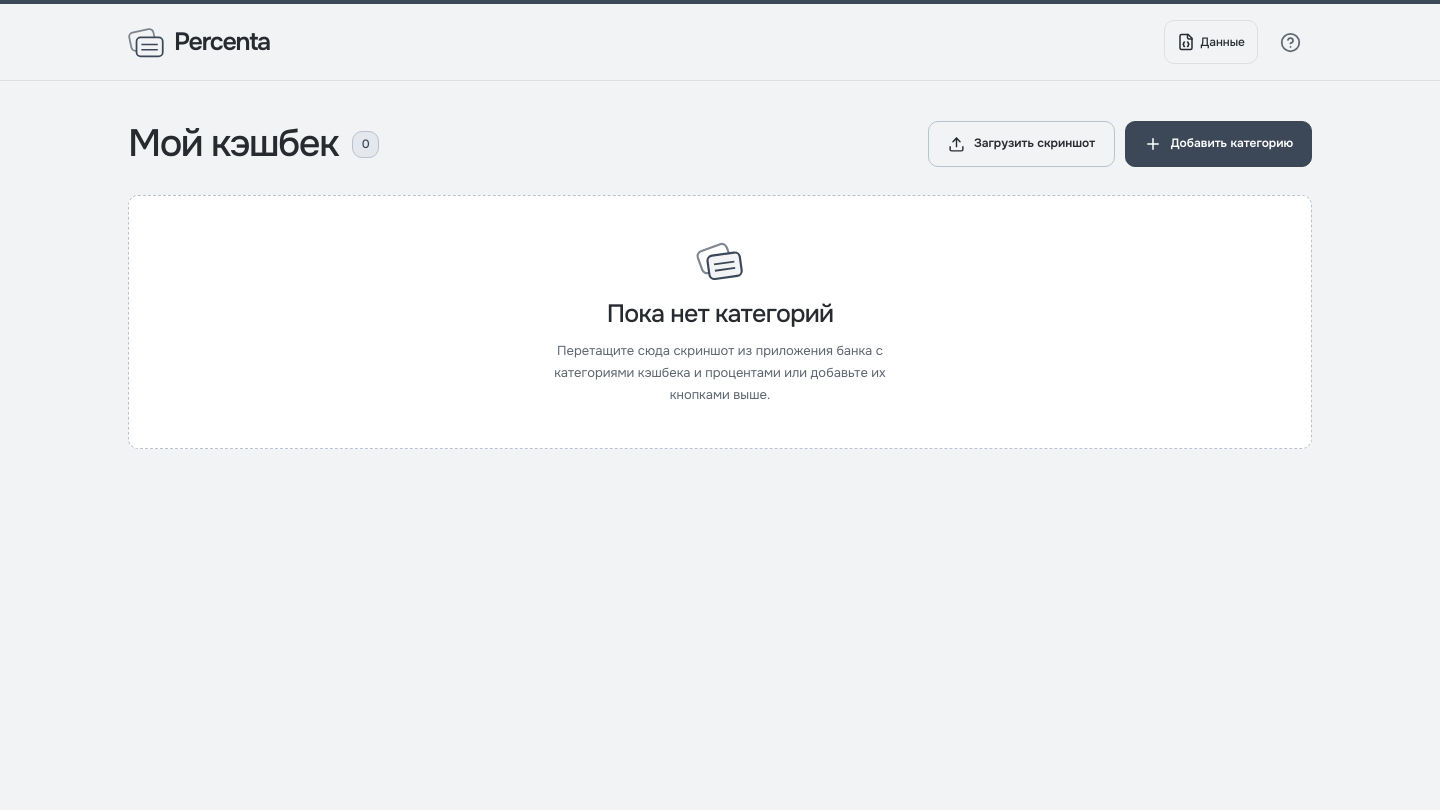
Test: основные пользовательские сценарии › добавляет вручную, сохраняет и показывает предложение
The image size is (1440, 810).
Click the button "Добавить категорию": (1218, 144) [1125,121,1312,167]
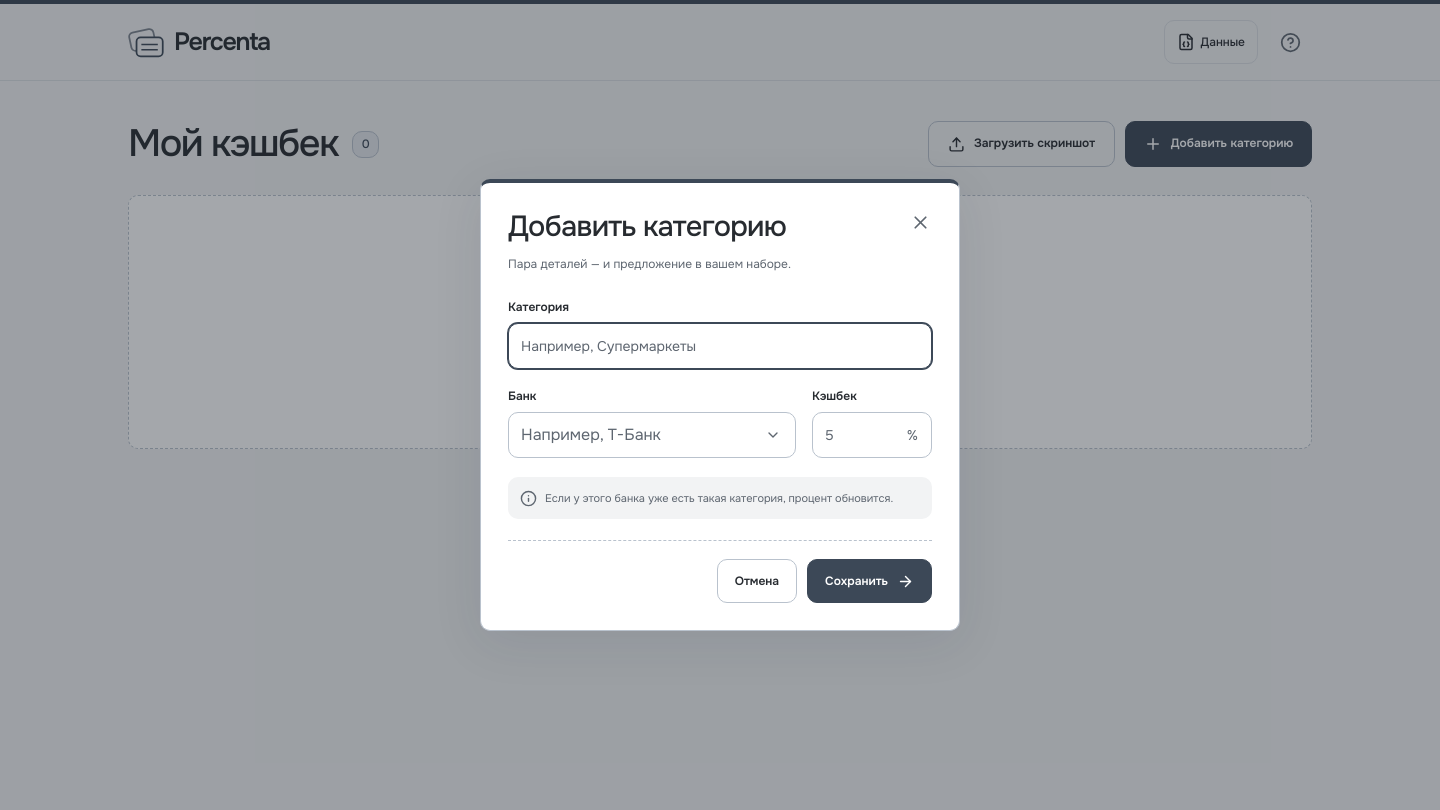
In the field labelled "Категория": (720, 346) [509,324,931,368], type "Кафе"
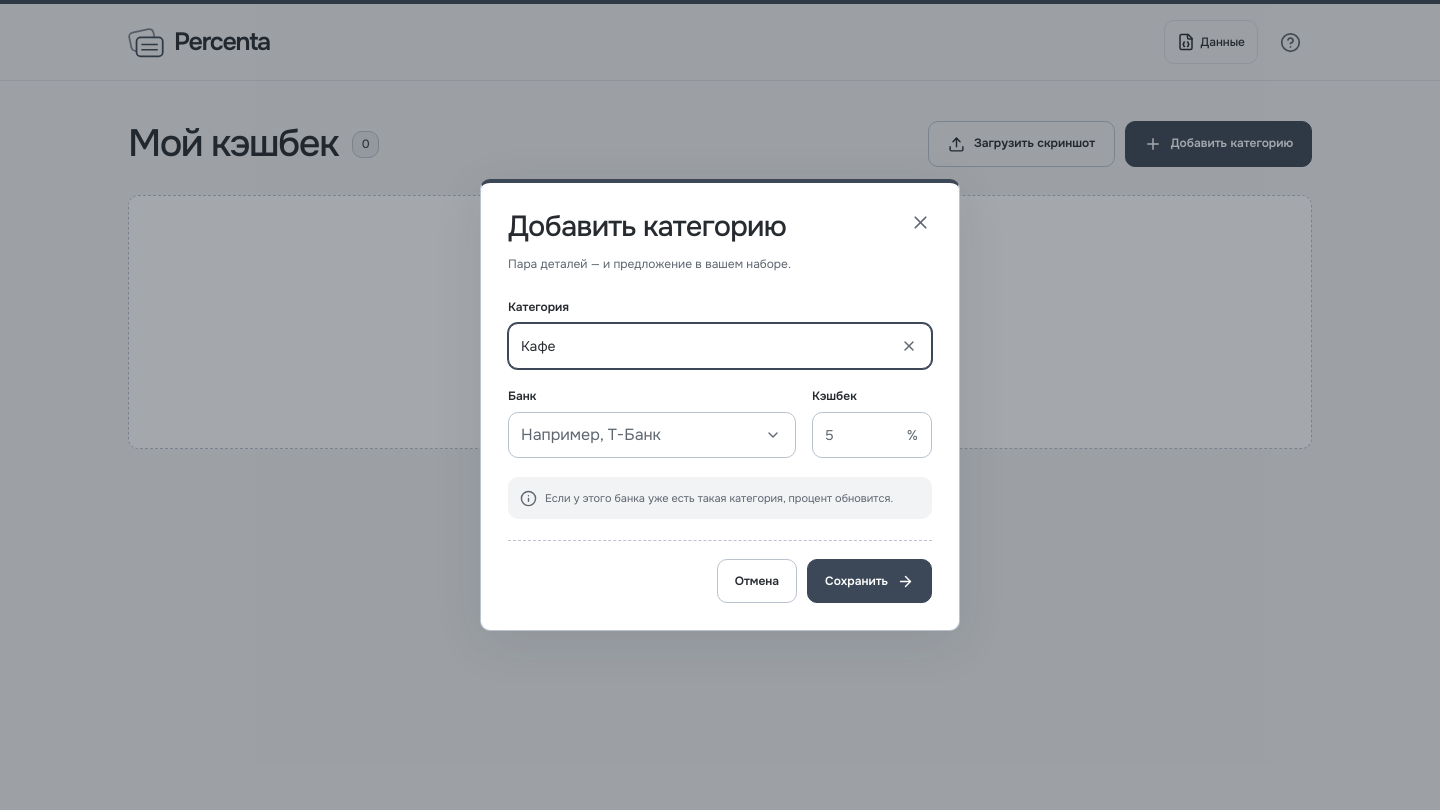
In the field labelled "Банк": (630, 435) [509,413,751,457], type "Сбер"
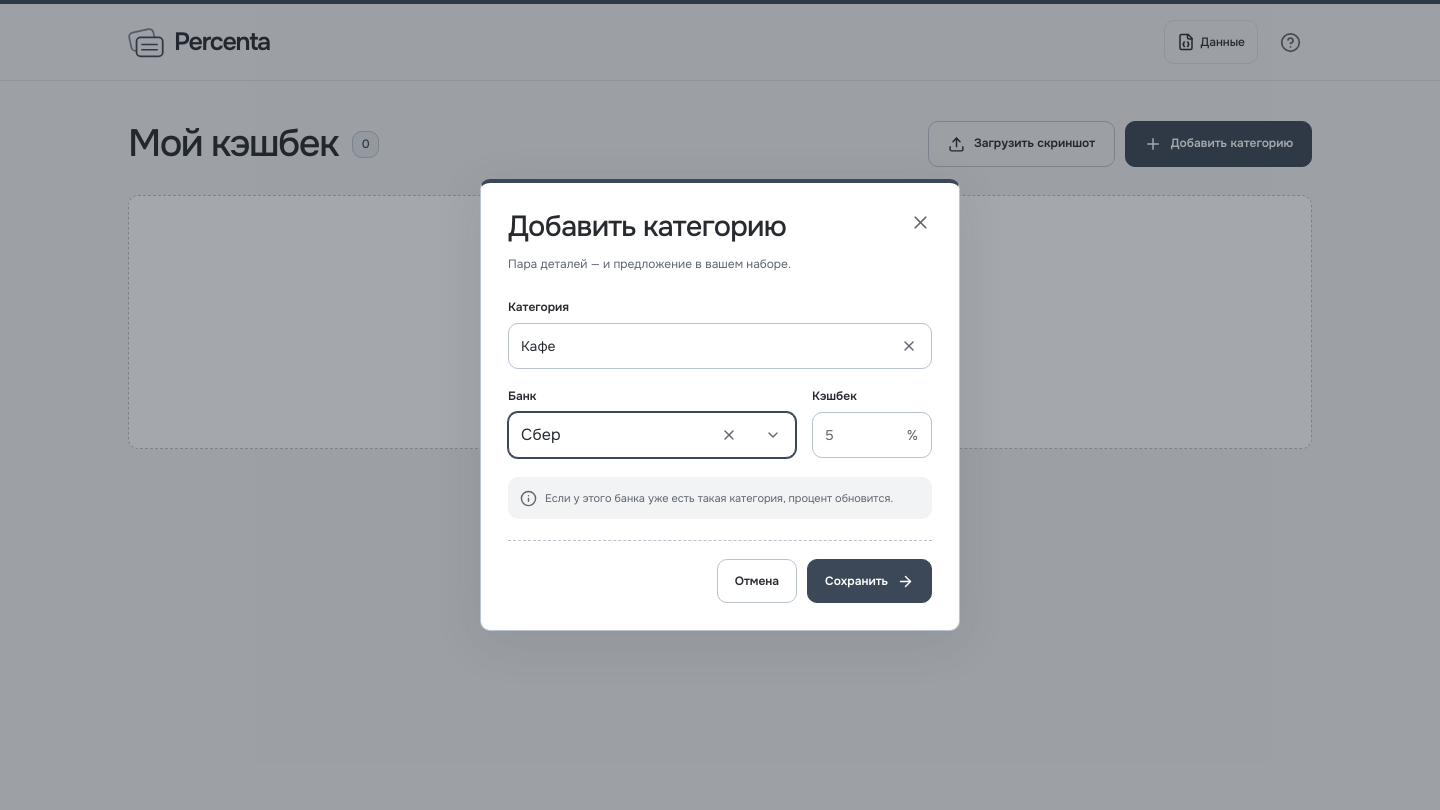
In the field named "Процент кэшбека": (860, 435) [813,413,907,457], type "5,5"
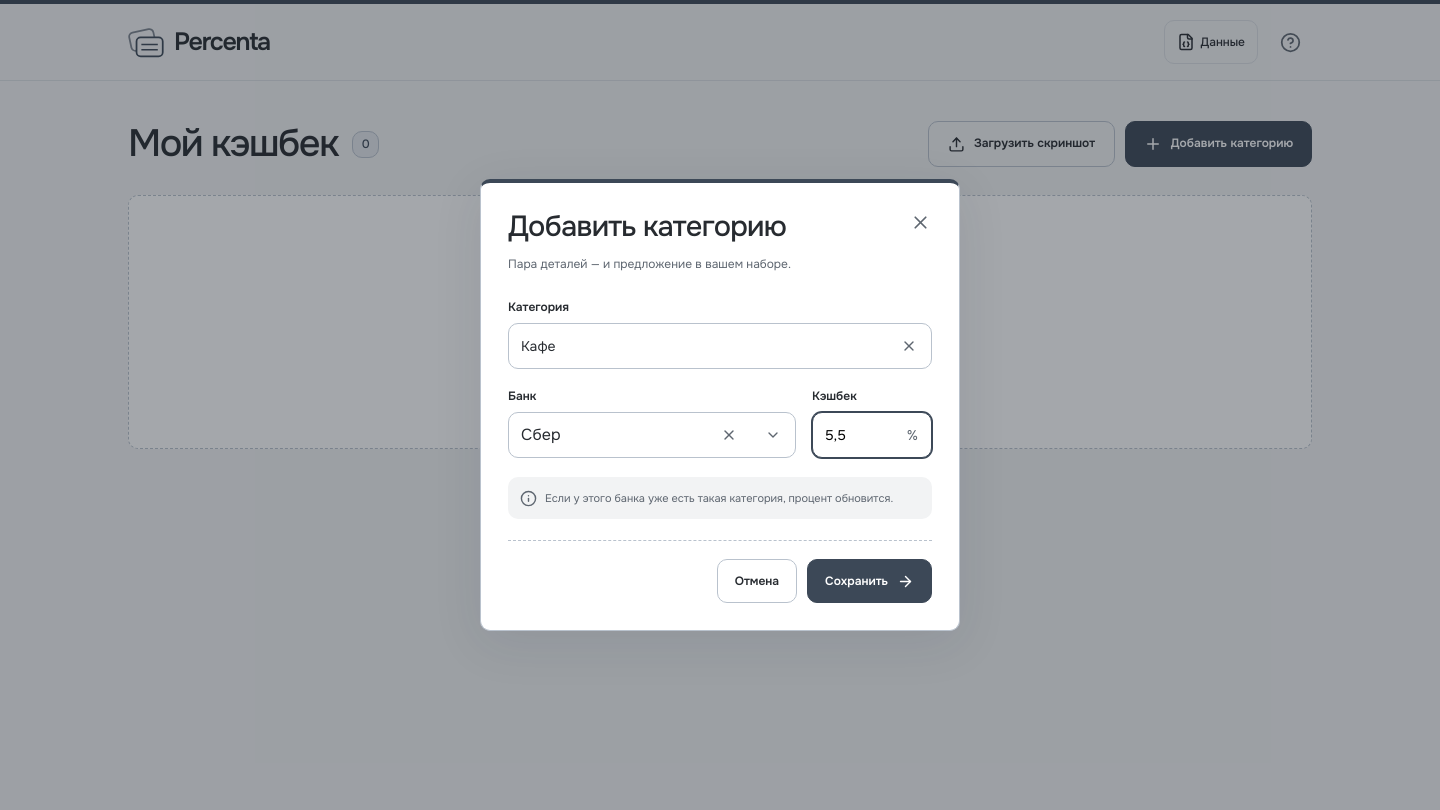
Click the button "Сохранить": (870, 581) [807,559,932,603]
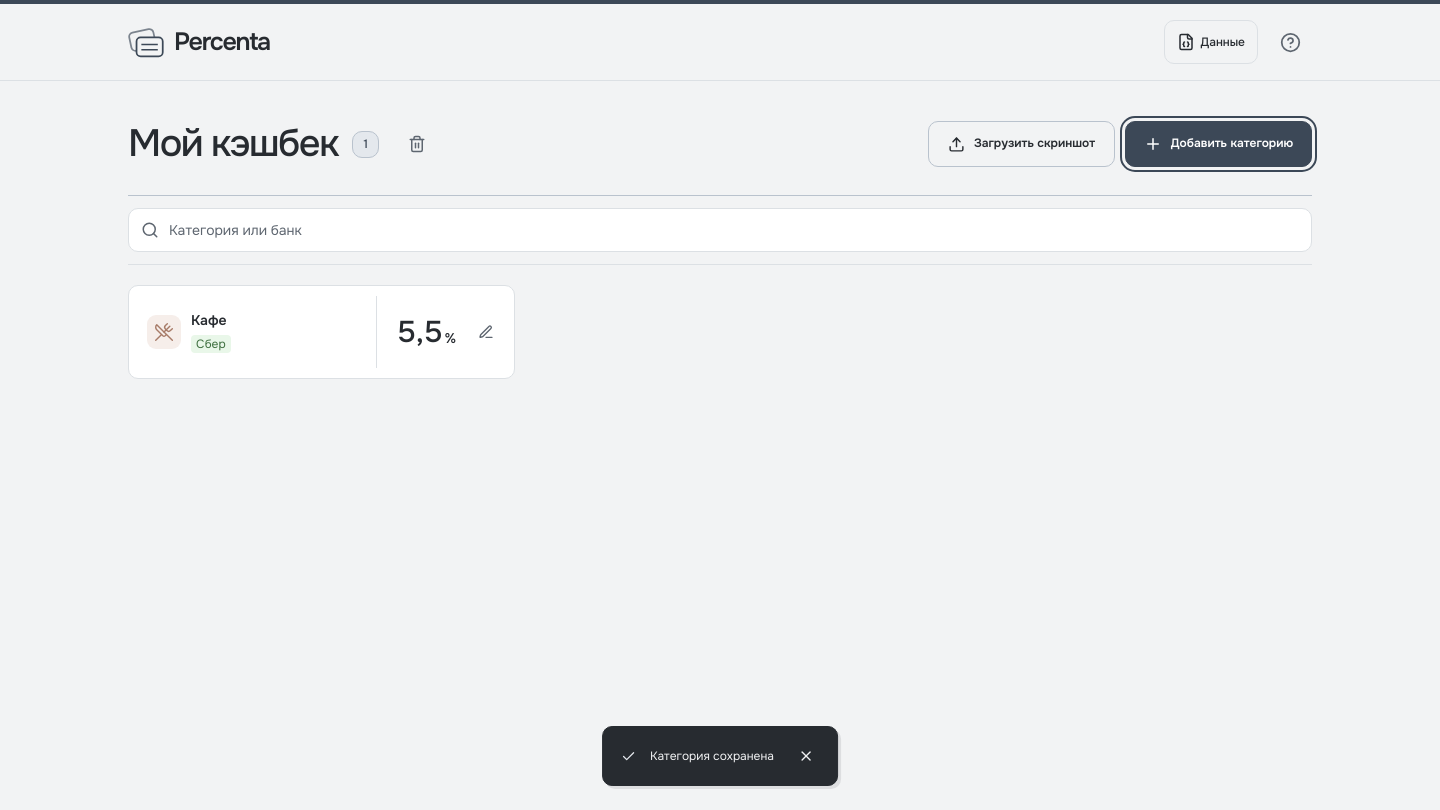
expect the dialog is gone: met
expect the heading "Кафе" is shown: met, box [191,311,227,329]
